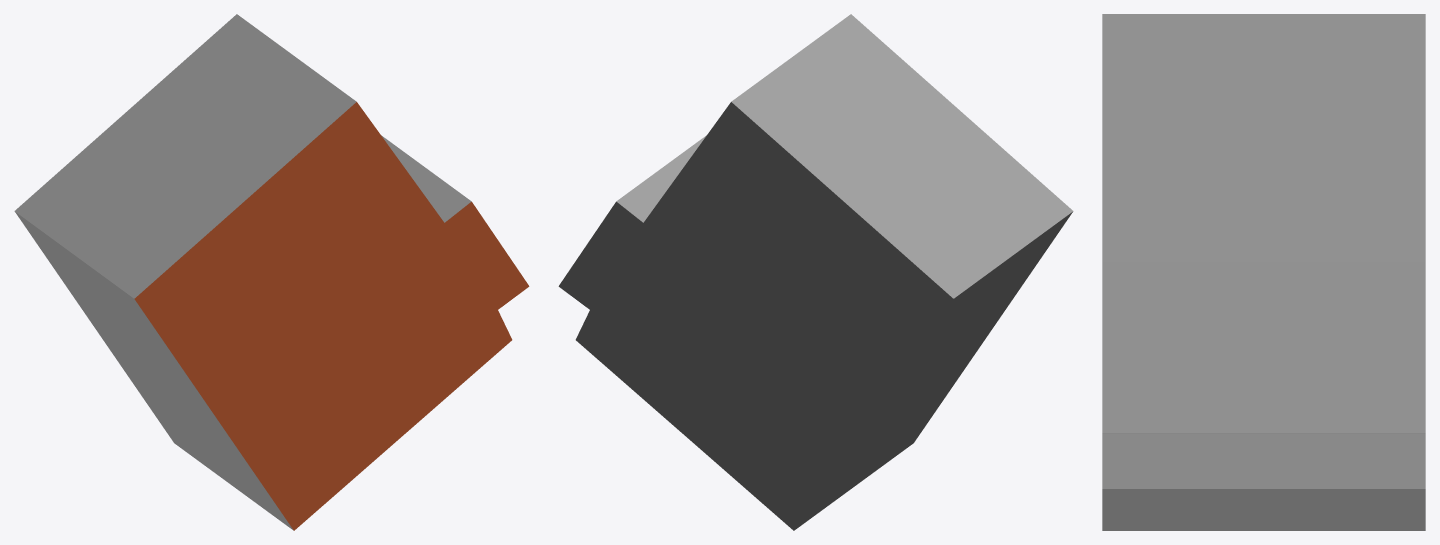
The model's file is construction_6257_assumed_A_Casa_h6m.obj.
3 renders of one model, left to right at view 1: azimuth 30°, elevation 25°; view 2: azimuth 150°, elevation 25°; view 3: azimuth 270°, elevation 25°, orthographic. The views are drawn at different scales.
Visible parts, largest first — view 1: construction_6257_assumed_A_Casa; view 2: construction_6257_assumed_A_Casa; view 3: construction_6257_assumed_A_Casa.
Part boxes in pixels (x1,y1,x2,y2): construction_6257_assumed_A_Casa: (14, 14, 529, 530); construction_6257_assumed_A_Casa: (558, 14, 1073, 530); construction_6257_assumed_A_Casa: (1102, 14, 1425, 530).
Size of the model in its own units: 11.42 by 11.43 by 6.
